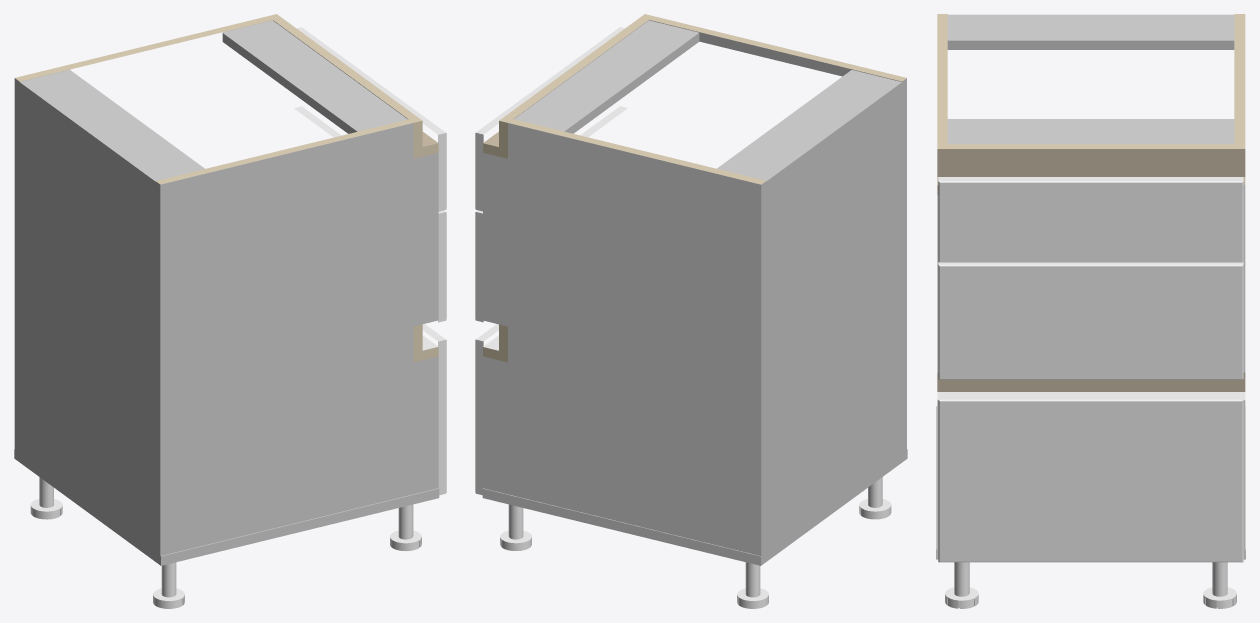
File: proba_1.glb
3 views of the same model, side by side, from view 1: azimuth 30°, elevation 25°; view 2: azimuth 150°, elevation 25°; view 3: azimuth 270°, elevation 25° (orthographic). The views are drawn at different scales.
Visible parts, largest first — view 1: Group1, Group2; view 2: Group1, Group2; view 3: Group1, Group2.
Boxes of the visible parts, bbox=[...] form: Group1: bbox=[14, 14, 446, 565]; Group2: bbox=[30, 477, 421, 608]; Group1: bbox=[475, 14, 907, 565]; Group2: bbox=[500, 477, 891, 608]; Group1: bbox=[936, 14, 1245, 562]; Group2: bbox=[945, 562, 1236, 608].
Size of the model in its own units: 570 by 817 by 504.
